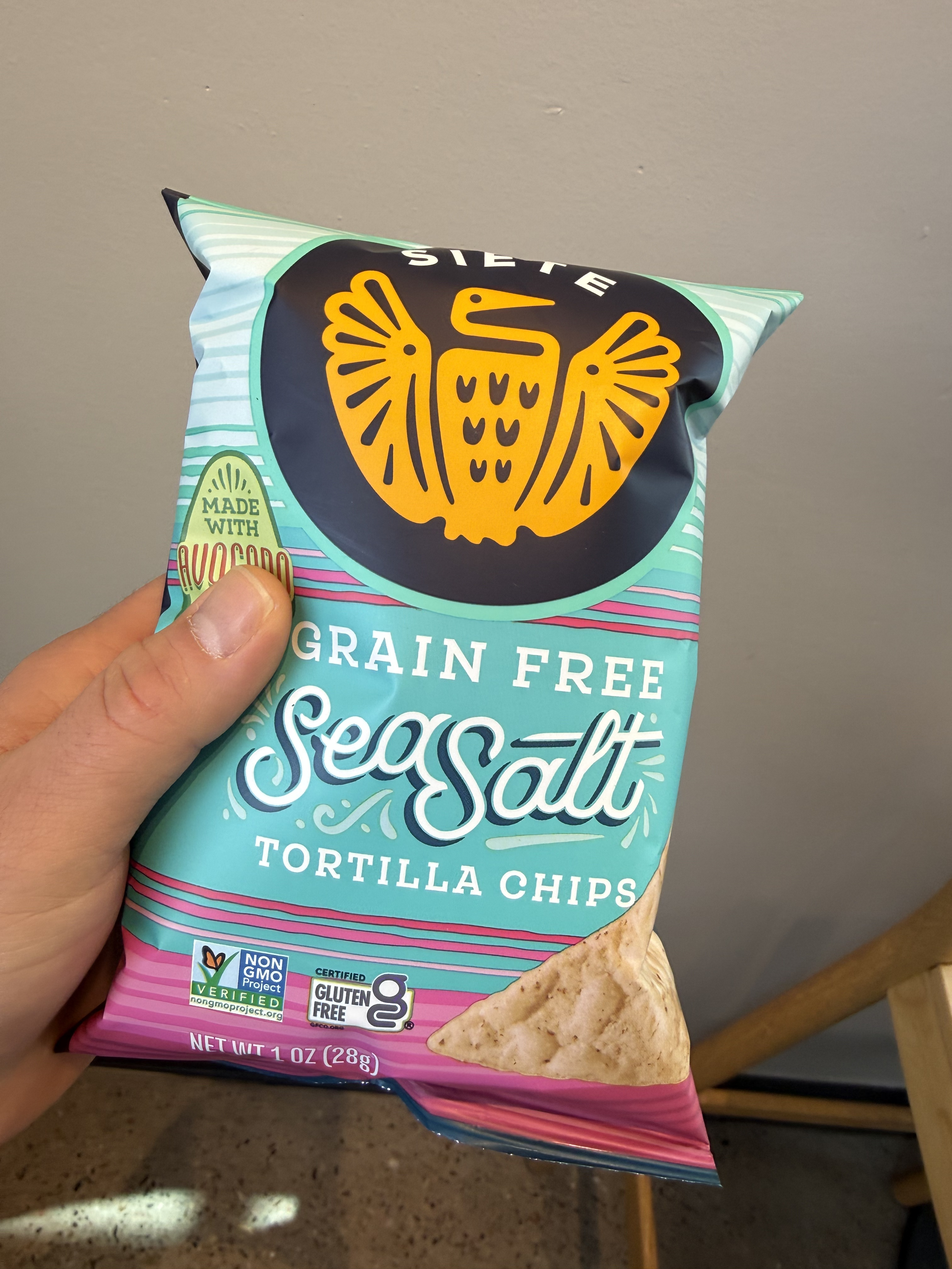sea_salt: (96, 144, 773, 1203)
